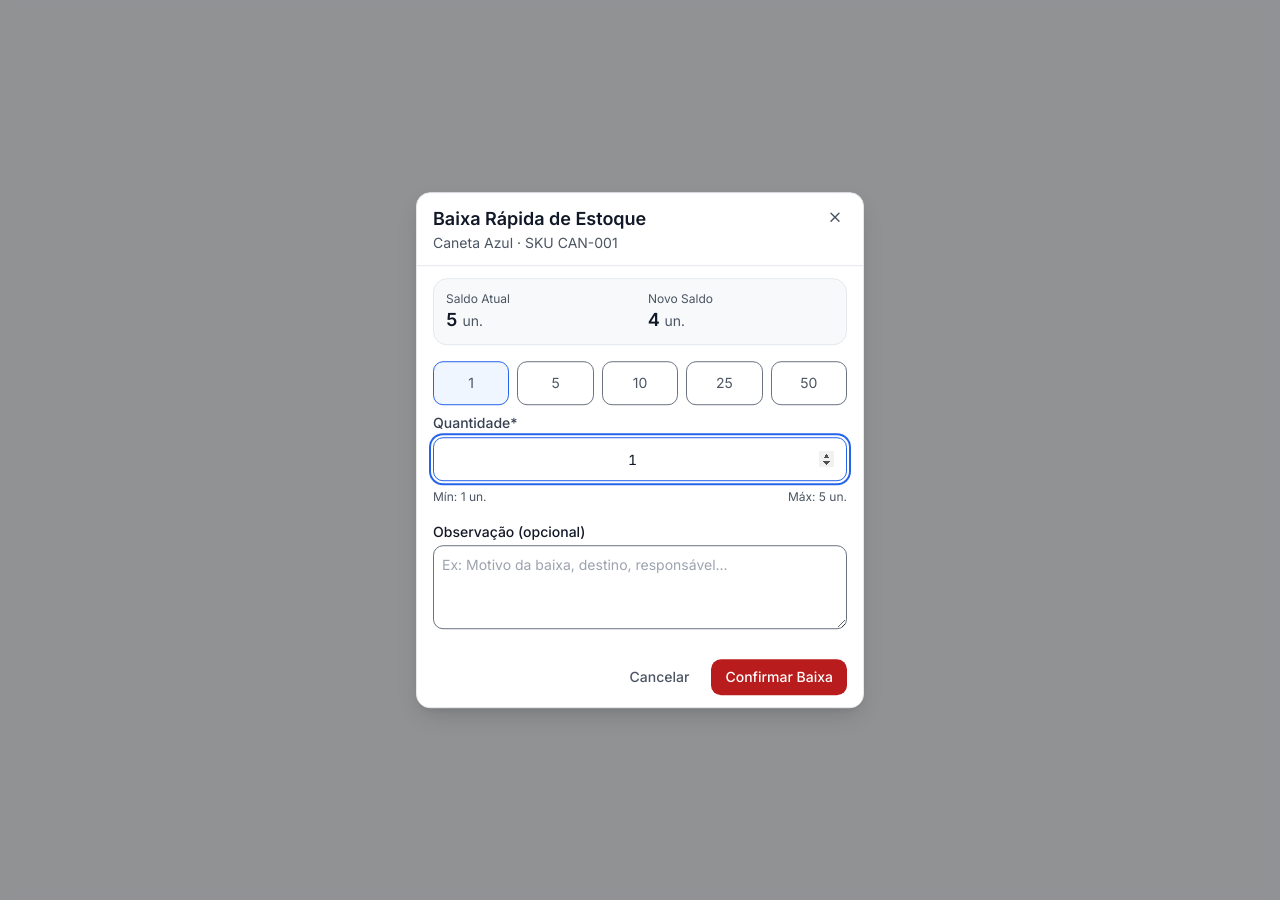
Scenario: QuickOutModal — erro da API chega ao usuário (F-07 / UF-26) › exibe a mensagem sanitizada do backend em erro interno (500)
Click the button "Confirmar Baixa". click: (779, 677)
box: left=711, top=659, right=847, bottom=695
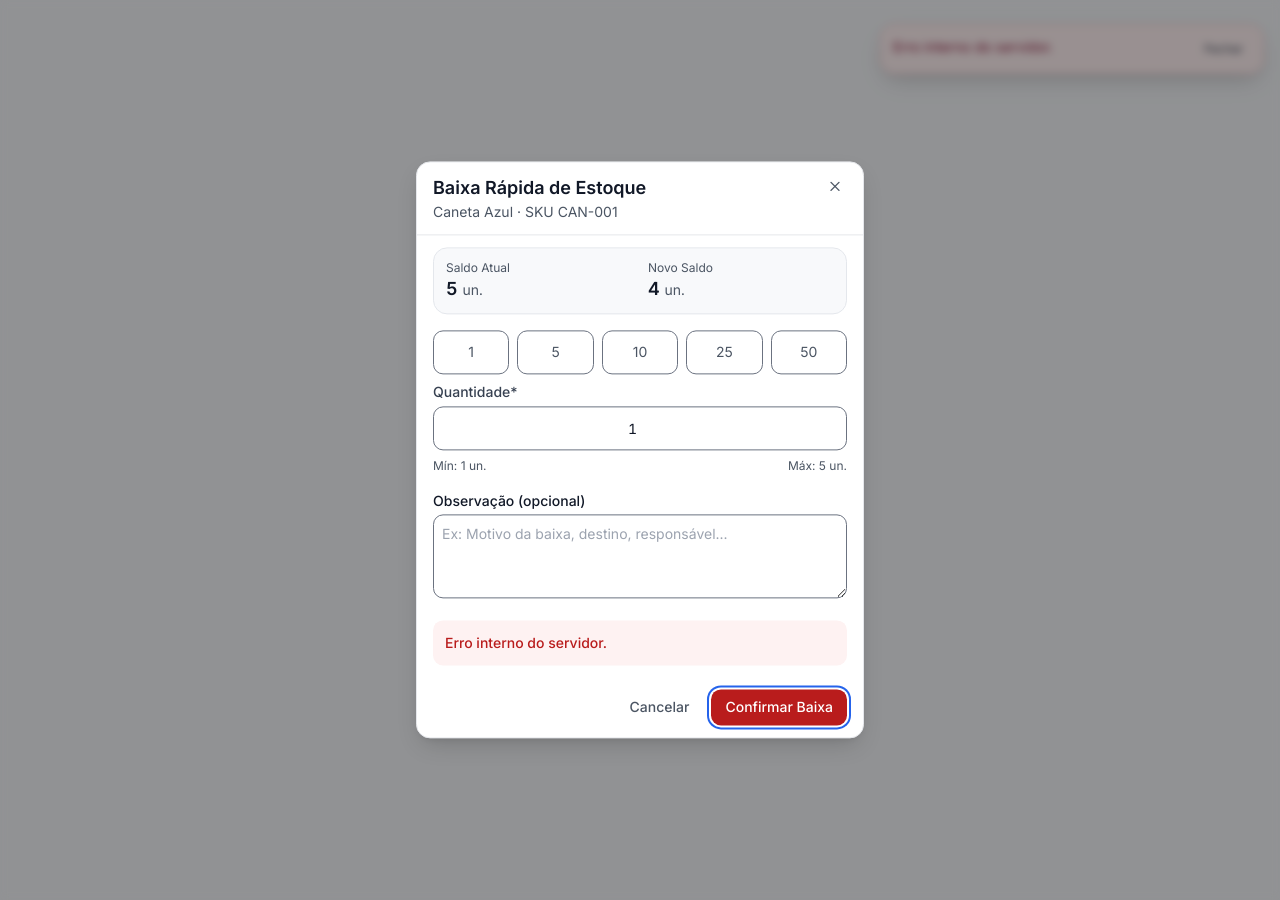
expect the text "Erro interno do servidor." is shown: met, box left=893, top=38, right=1053, bottom=55
